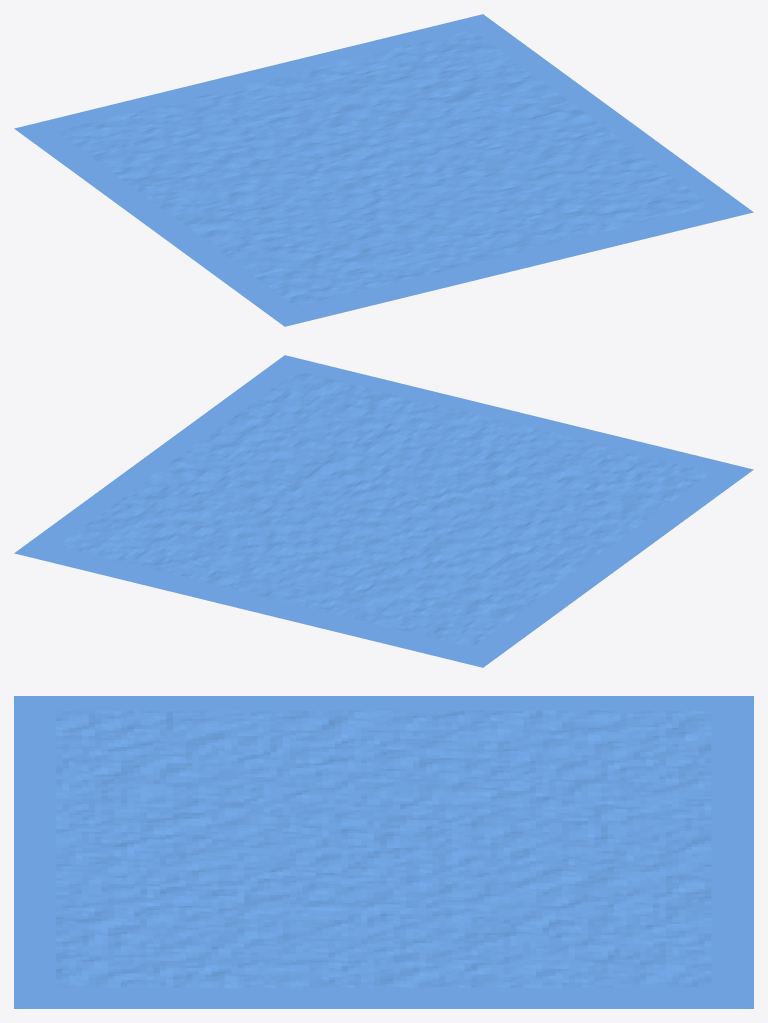
Rendered from landscape.glb.
The picture shows the model from 3 angles, top to bottom: view 1: azimuth 30°, elevation 25°; view 2: azimuth 150°, elevation 25°; view 3: azimuth 270°, elevation 25°; orthographic projection. The views are drawn at different scales.
Visible parts, largest first — view 1: Water, Fond; view 2: Water, Fond; view 3: Water, Fond.
Boxes of the visible parts, bbox=[...] form: Water: bbox=[56, 30, 710, 306]; Fond: bbox=[14, 14, 753, 326]; Water: bbox=[57, 371, 711, 647]; Fond: bbox=[14, 355, 753, 667]; Water: bbox=[56, 709, 711, 988]; Fond: bbox=[14, 696, 753, 1008].
Bounding box in the file's own units: 952 × 7.59 × 952.
